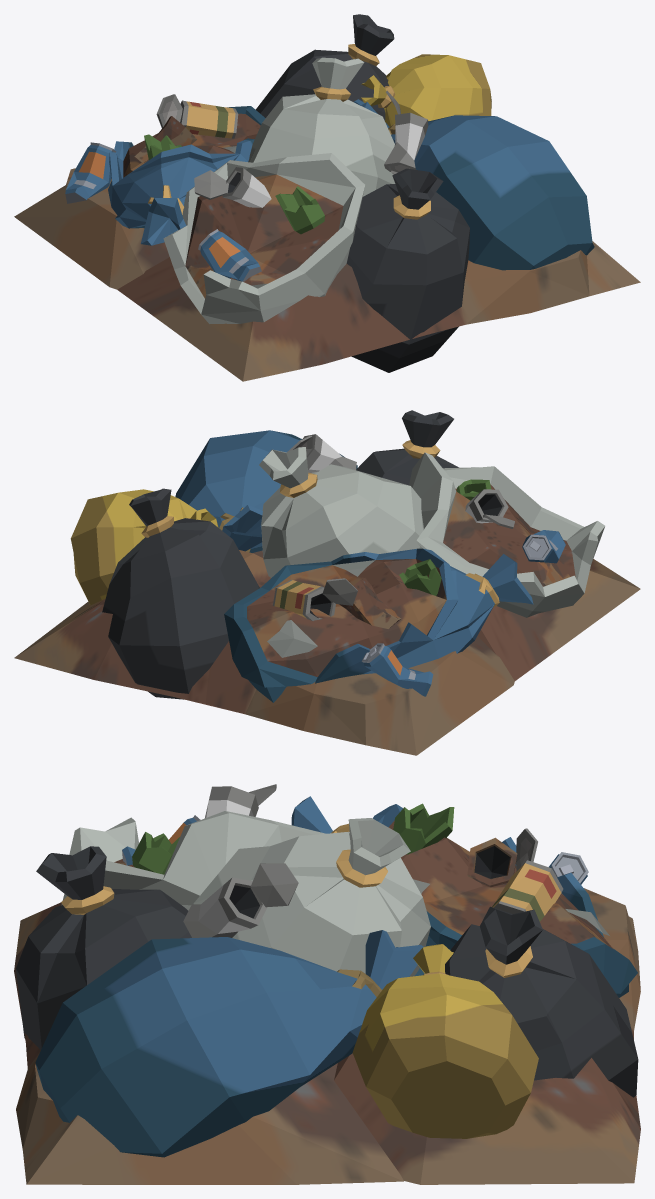
The model's file is SM_Prop_Skip_Large_02_Insert_01.fbx.
3 renders of one model, top to bottom at view 1: azimuth 30°, elevation 25°; view 2: azimuth 150°, elevation 25°; view 3: azimuth 270°, elevation 25°, orthographic. The views are drawn at different scales.
Parts seen in each view (by area): view 1: SM_Prop_Skip_Large_02_Insert_01; view 2: SM_Prop_Skip_Large_02_Insert_01; view 3: SM_Prop_Skip_Large_02_Insert_01.
Part boxes in pixels (<box>): SM_Prop_Skip_Large_02_Insert_01: <box>14,14,640,381</box>; SM_Prop_Skip_Large_02_Insert_01: <box>14,410,640,755</box>; SM_Prop_Skip_Large_02_Insert_01: <box>14,784,640,1184</box>.
Size of the model in its own units: 155 by 81.19 by 154.
